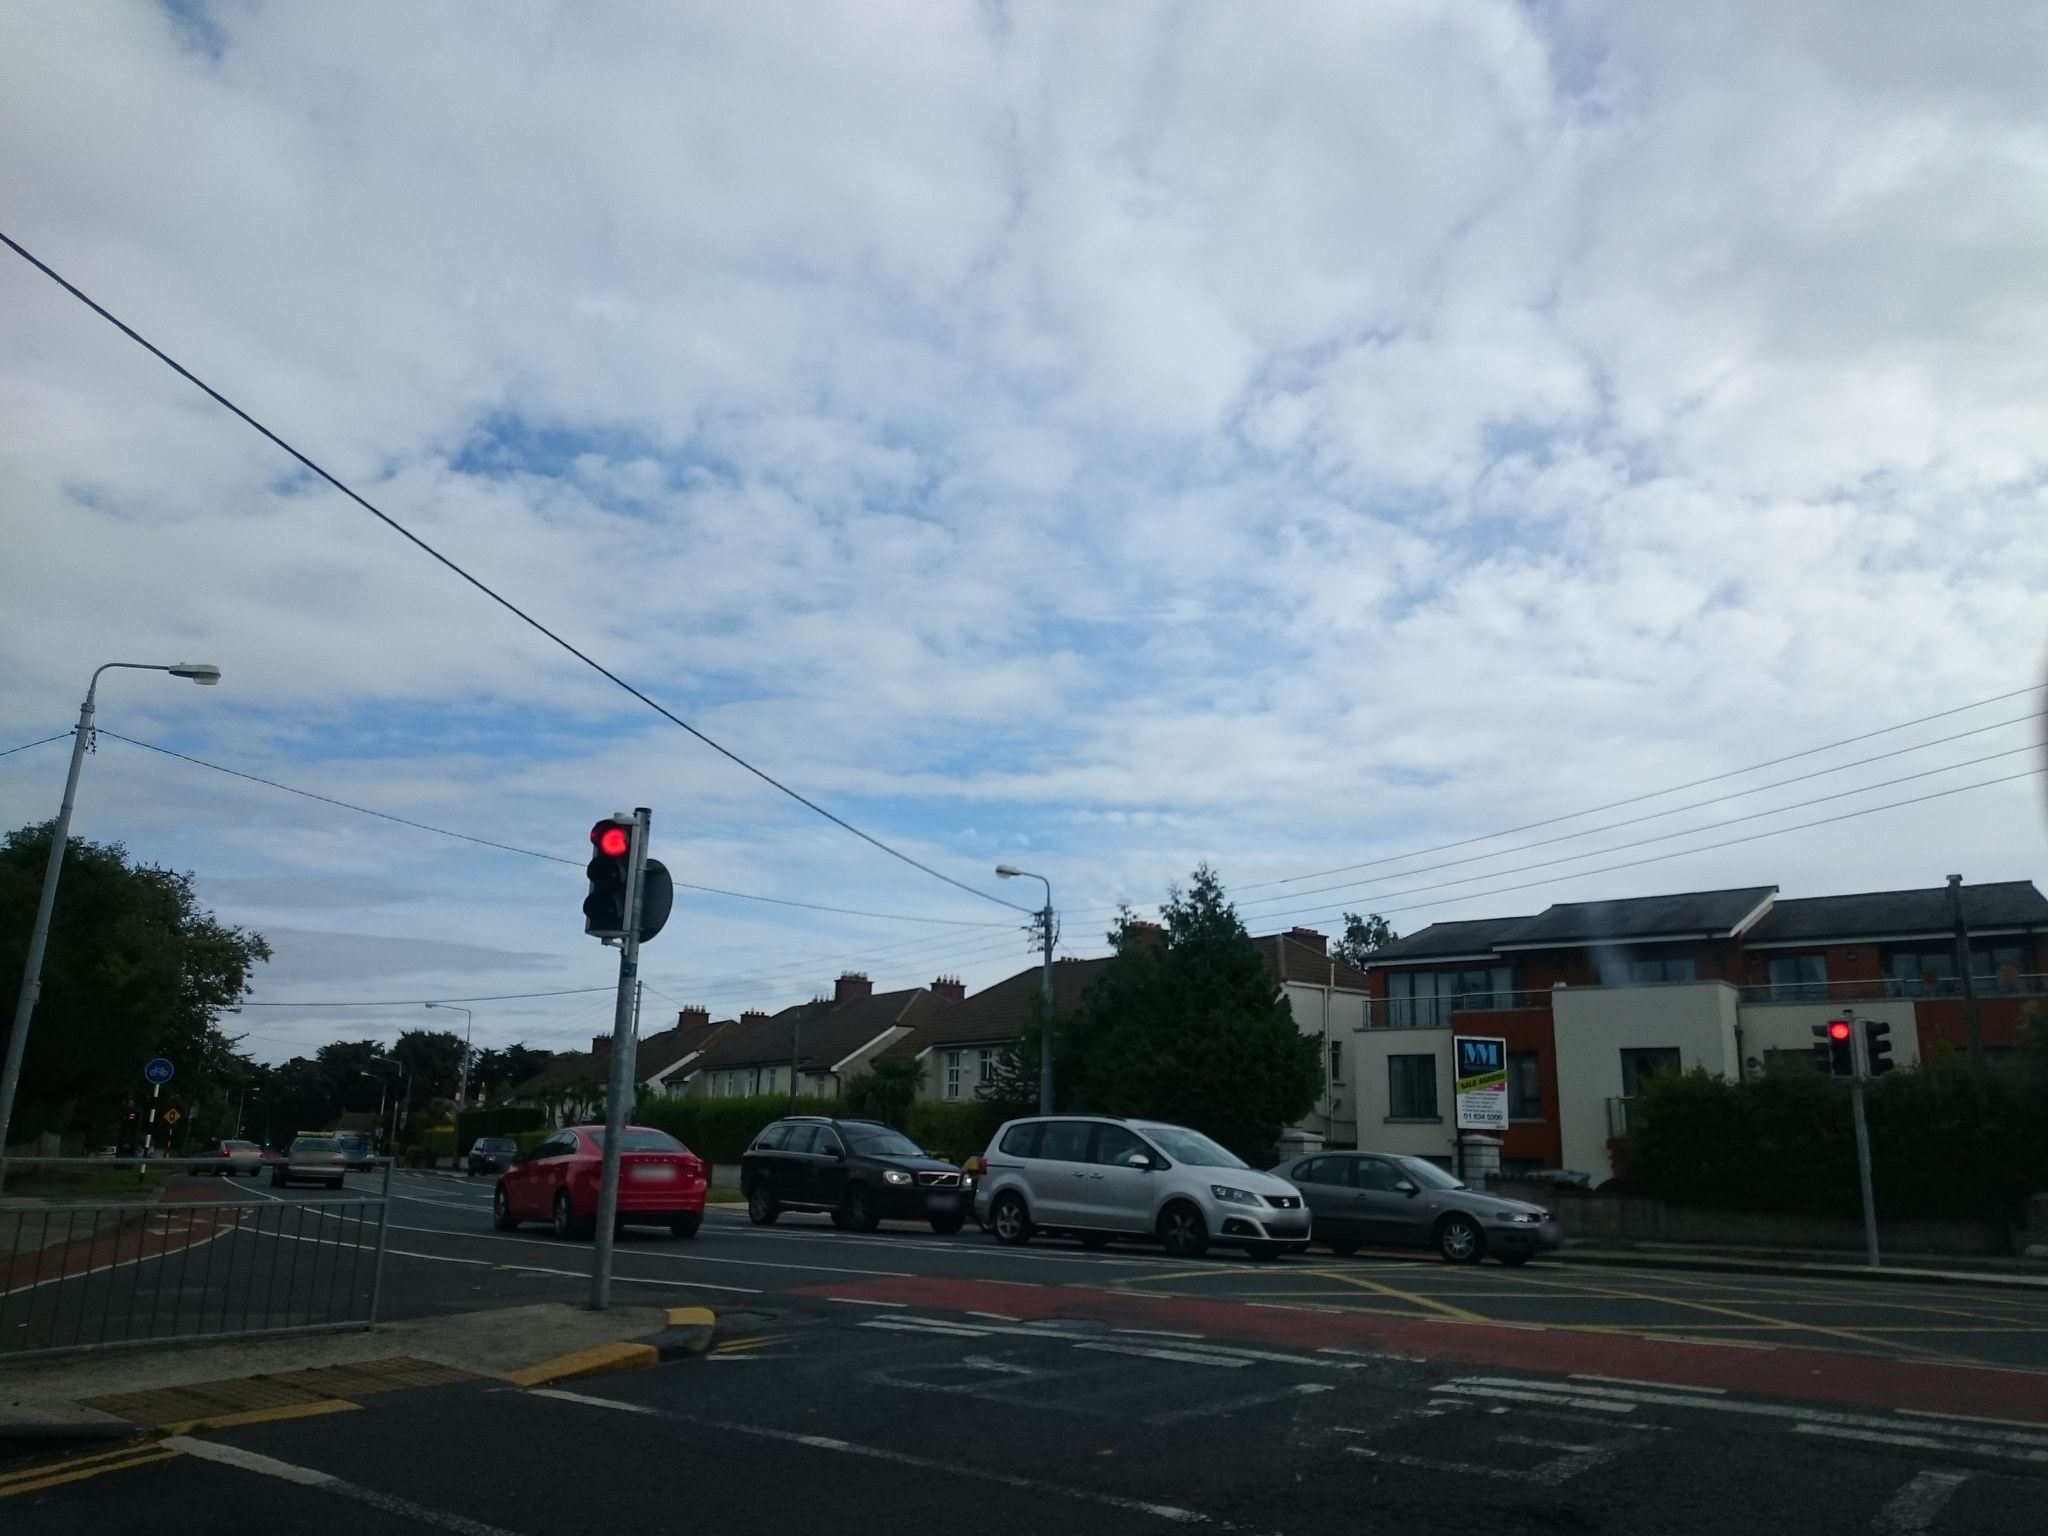property sign: (1442, 1015, 1517, 1137)
